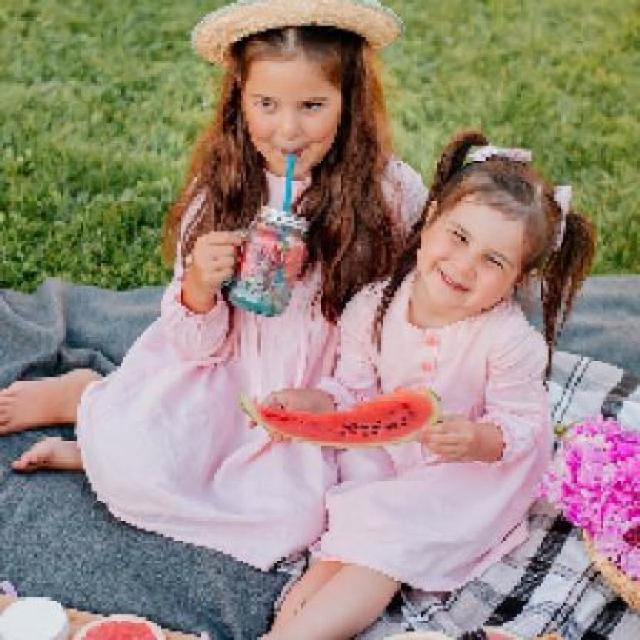child: (0, 0, 432, 572), (254, 128, 597, 638)
